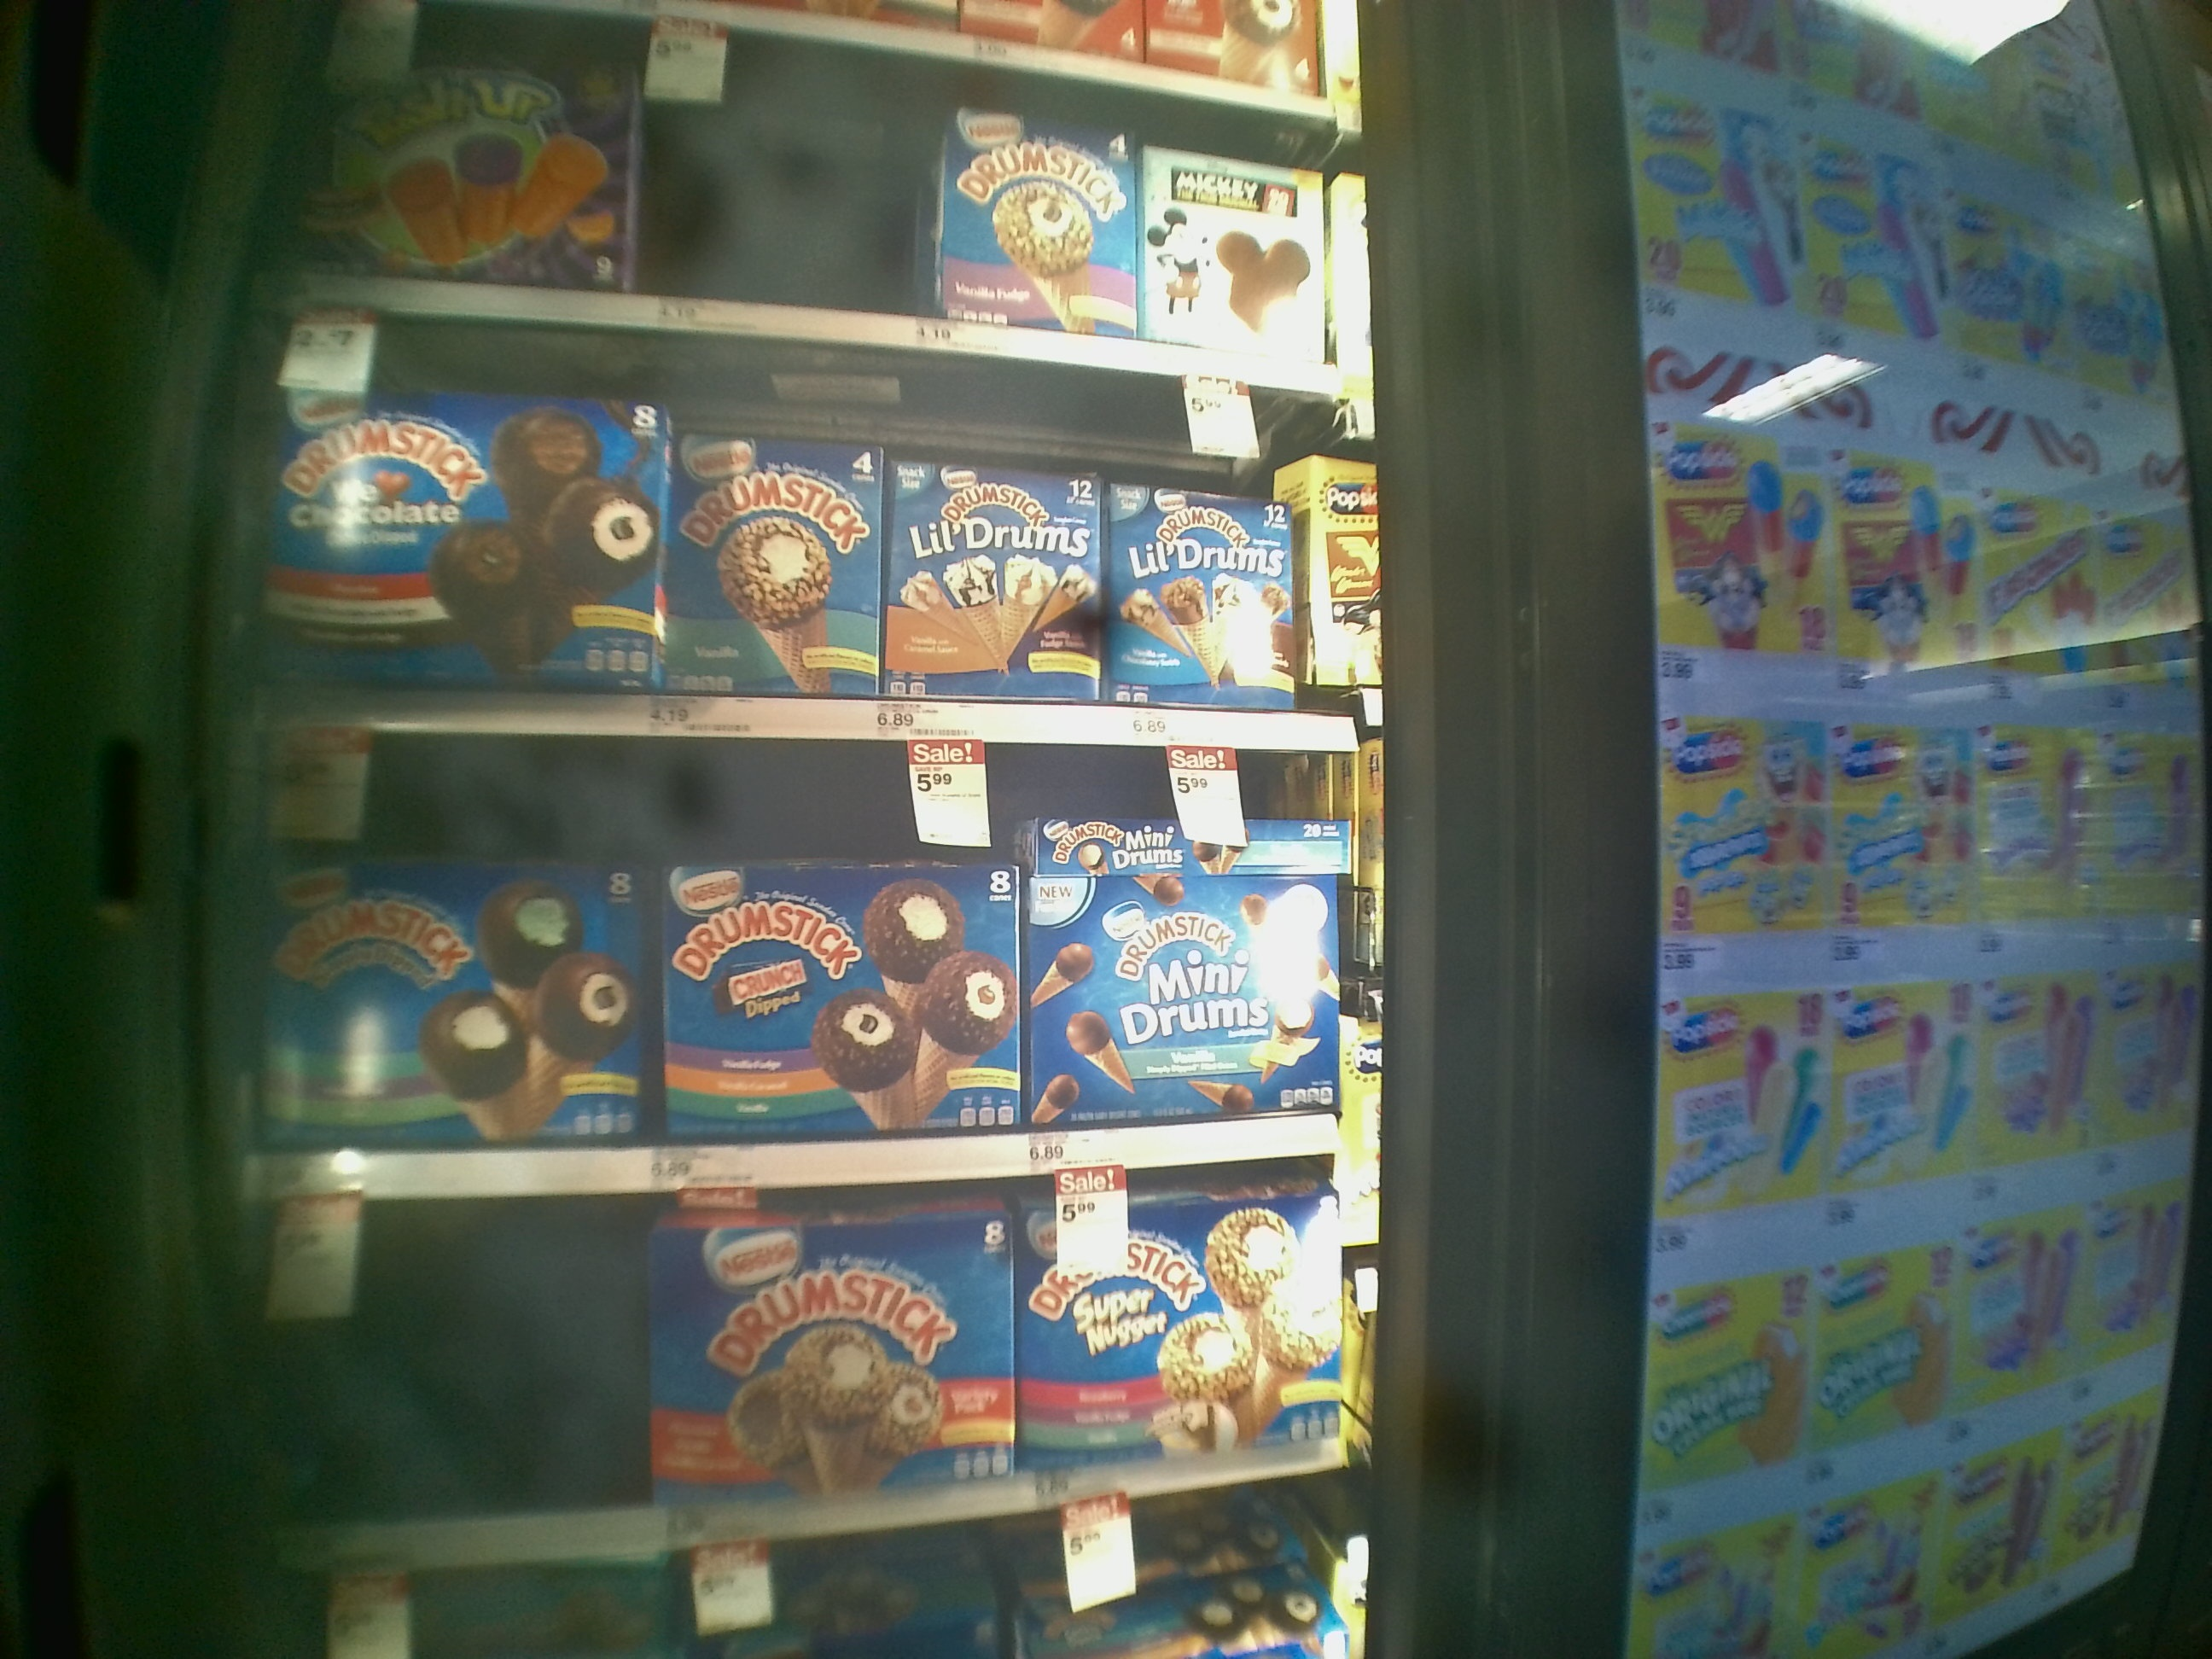shelf: (258, 734, 1385, 1188), (254, 1145, 1385, 1572), (261, 315, 1362, 732)
